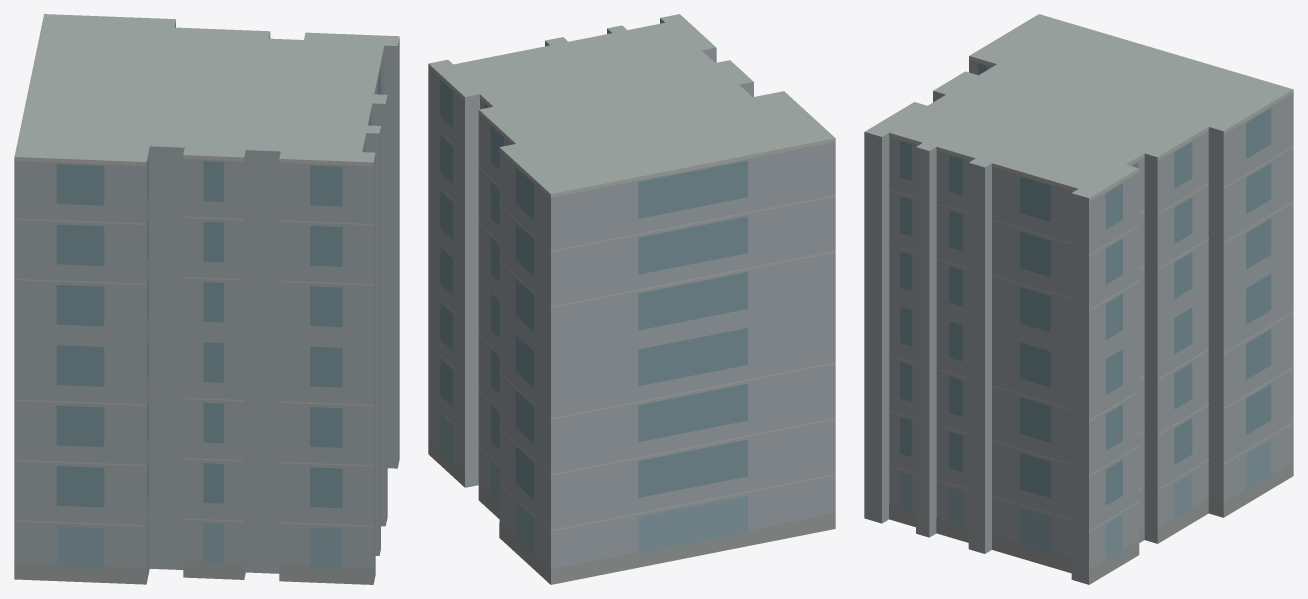
Rendered from survey-upis-32775495.glb.
3 renders of one model, left to right at view 1: azimuth 30°, elevation 25°; view 2: azimuth 150°, elevation 25°; view 3: azimuth 270°, elevation 25°, orthographic. The views are drawn at different scales.
Visible parts, largest first — view 1: survey-upis-32775495.tmp; view 2: survey-upis-32775495.tmp; view 3: survey-upis-32775495.tmp.
Boxes of the visible parts, x1,y1,x2,y2 form: survey-upis-32775495.tmp: (14,14,399,584); survey-upis-32775495.tmp: (428,14,835,584); survey-upis-32775495.tmp: (864,14,1293,584).
Bounding box in the file's own units: 26.45 × 25.85 × 26.03.
